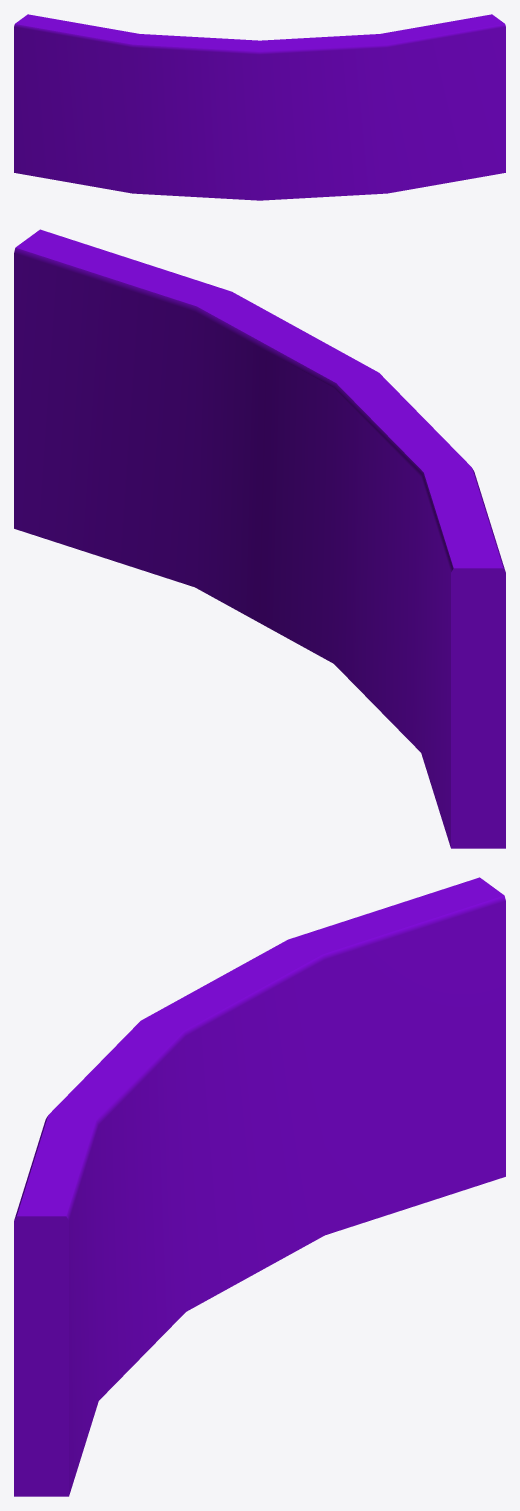
The model's file is RampN_C_30Deg_Left.fbx.
The picture shows the model from 3 angles, top to bottom: view 1: azimuth 30°, elevation 25°; view 2: azimuth 150°, elevation 25°; view 3: azimuth 270°, elevation 25°; orthographic projection. The views are drawn at different scales.
Parts seen in each view (by area): view 1: RampN_C_30Deg_Left; view 2: RampN_C_30Deg_Left; view 3: RampN_C_30Deg_Left.
Part boxes in pixels (x1,y1,x2,y2): RampN_C_30Deg_Left: [14, 14, 505, 200]; RampN_C_30Deg_Left: [14, 229, 505, 848]; RampN_C_30Deg_Left: [14, 877, 505, 1496].
Size of the model in its own units: 7.57 by 2.91 by 4.63.
